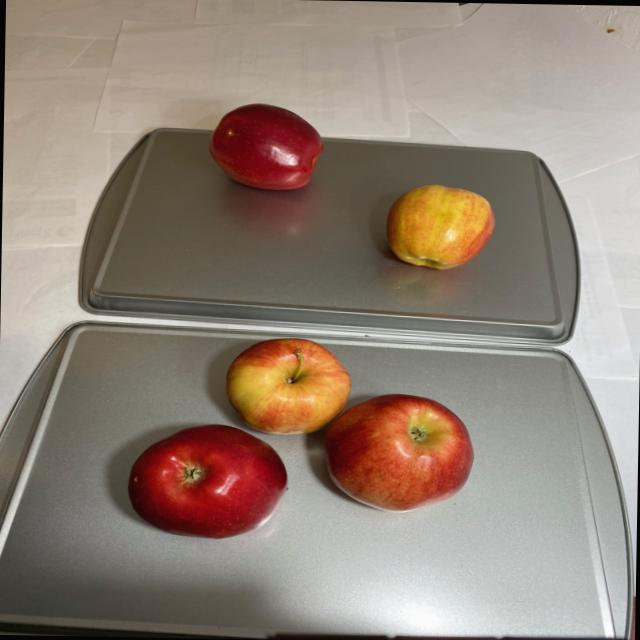apple: (123, 336, 476, 542), (207, 102, 328, 192), (384, 183, 496, 271)
